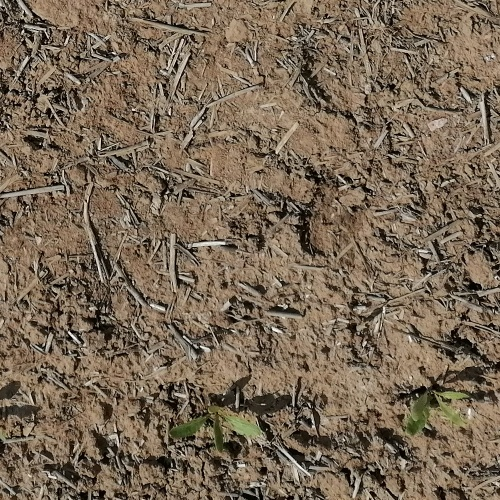beet: (164, 401, 269, 454), (406, 384, 471, 438)
